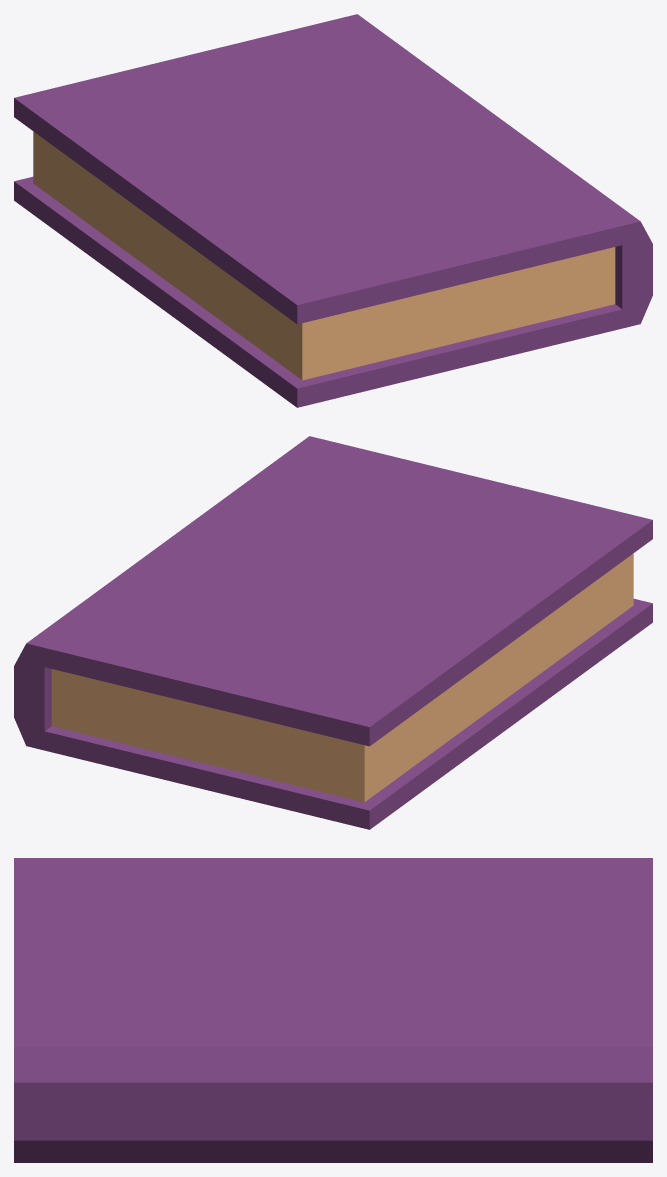
Rendered from Book_4.fbx.
3 renders of one model, top to bottom at view 1: azimuth 30°, elevation 25°; view 2: azimuth 150°, elevation 25°; view 3: azimuth 270°, elevation 25°, orthographic. The views are drawn at different scales.
Visible parts, largest first — view 1: Book_4; view 2: Book_4; view 3: Book_4.
Boxes of the visible parts, x1,y1,x2,y2 form: Book_4: (14, 14, 652, 407); Book_4: (14, 436, 652, 829); Book_4: (14, 858, 652, 1162).
Bounding box in the file's own units: 0.29 × 0.4 × 0.08.
